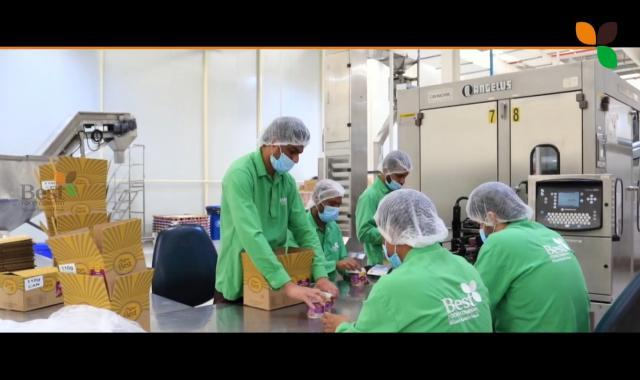Hairnet: (377, 192, 450, 243), (466, 182, 529, 219), (261, 118, 306, 146), (310, 180, 342, 205), (380, 151, 413, 174)
Mask: (268, 154, 296, 176), (380, 245, 406, 266), (315, 205, 341, 222), (481, 228, 489, 243)
No_Apron: (500, 226, 591, 335), (387, 255, 488, 333), (237, 169, 293, 295), (315, 225, 341, 276)
No_Glove: (283, 282, 323, 308), (319, 310, 349, 332), (318, 278, 340, 292), (335, 258, 363, 269)
